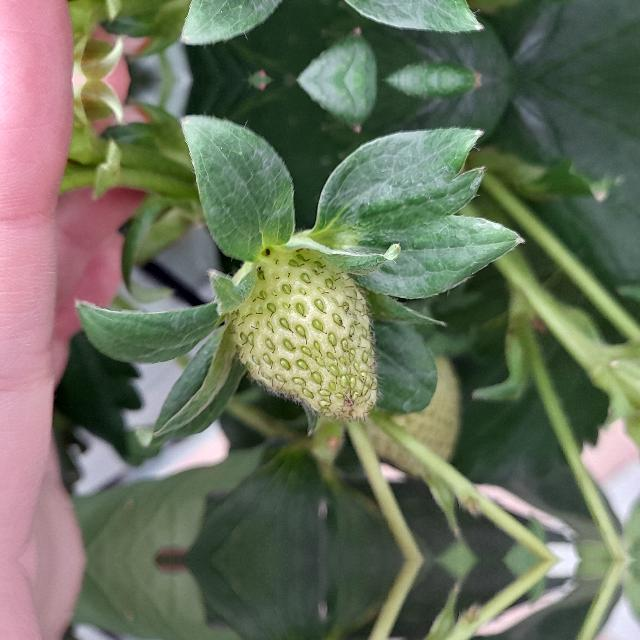Health_25: (234, 248, 376, 418)
